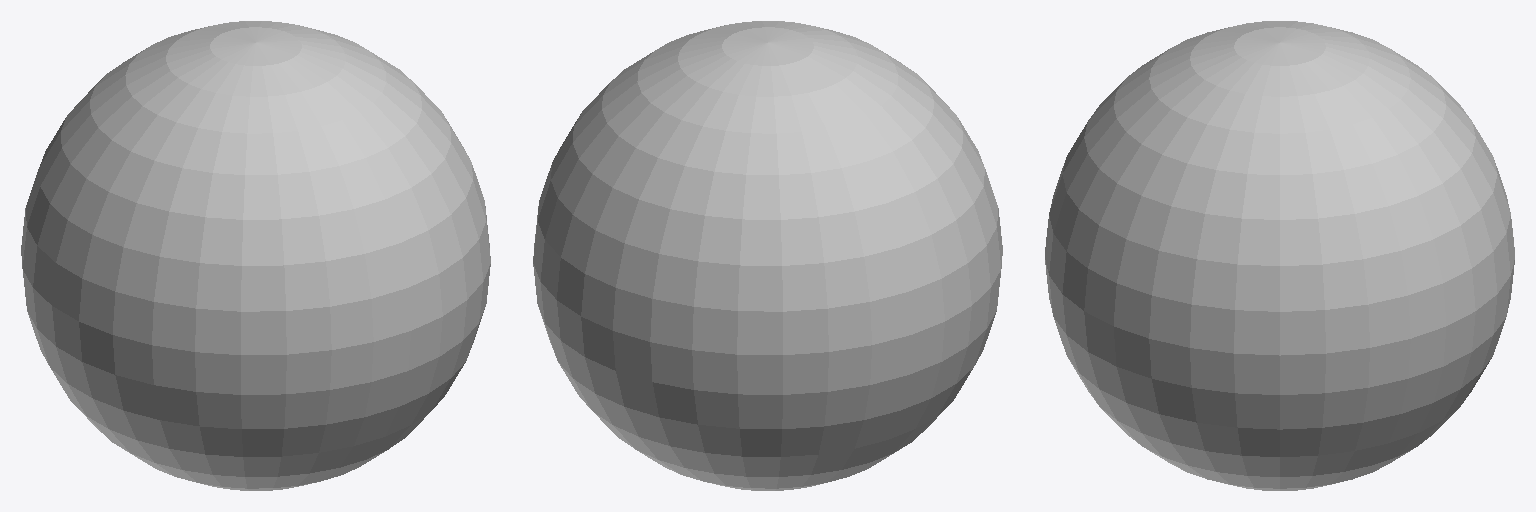
The model's file is vida.obj.
3 views of the same model, side by side, from view 1: azimuth 30°, elevation 25°; view 2: azimuth 150°, elevation 25°; view 3: azimuth 270°, elevation 25° (orthographic).
Parts seen in each view (by area): view 1: Sphere; view 2: Sphere; view 3: Sphere.
Boxes of the visible parts, <box> form: Sphere: <box>21,21,490,490</box>; Sphere: <box>533,21,1002,490</box>; Sphere: <box>1045,21,1514,490</box>.
Bounding box in the file's own units: 0.3819 × 0.3819 × 0.3819.